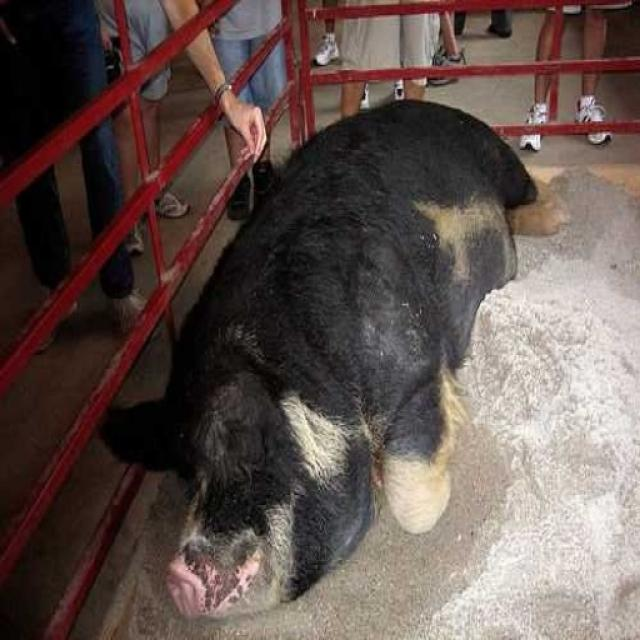pig: (106, 70, 591, 639)
